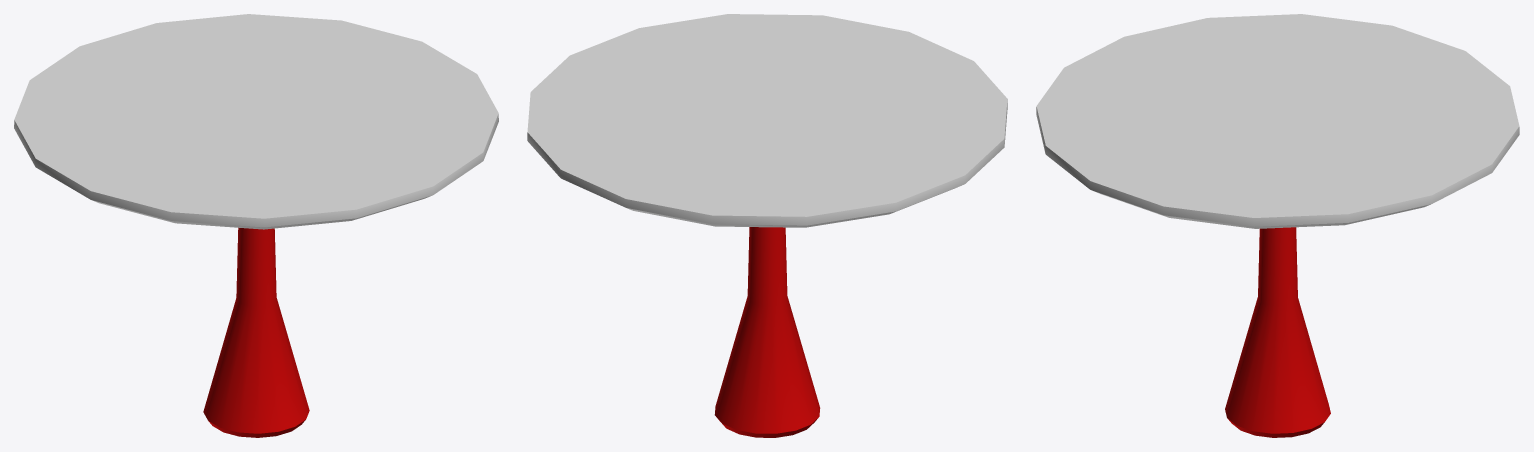
File: Table_Square.fbx
3 views of the same model, side by side, from view 1: azimuth 30°, elevation 25°; view 2: azimuth 150°, elevation 25°; view 3: azimuth 270°, elevation 25° (orthographic).
Visible parts, largest first — view 1: Table_Square; view 2: Table_Square; view 3: Table_Square.
Part boxes in pixels (bbox=[...]): Table_Square: bbox=[14, 14, 498, 437]; Table_Square: bbox=[527, 14, 1007, 437]; Table_Square: bbox=[1036, 14, 1519, 437].
Bounding box in the file's own units: 109 × 75.12 × 109.
